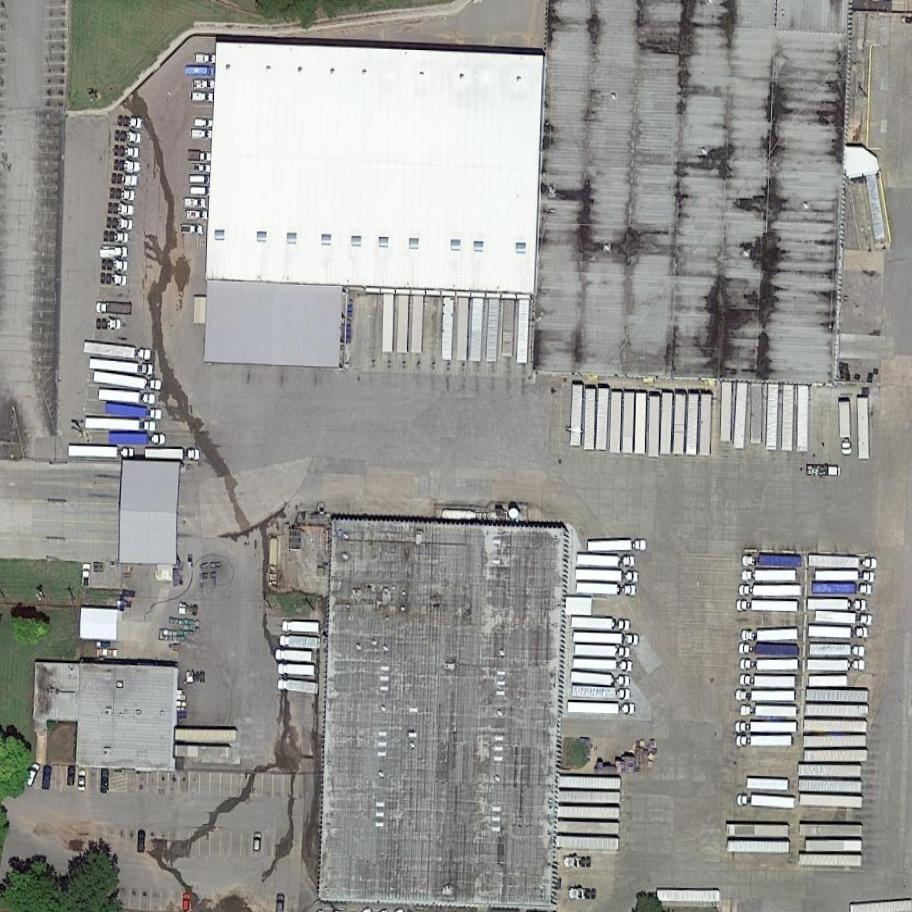large-vehicle: (84, 341, 151, 361), (93, 372, 162, 390), (85, 417, 157, 433), (104, 402, 163, 421), (89, 360, 154, 376), (99, 389, 157, 406), (809, 555, 879, 569), (572, 671, 630, 687), (574, 632, 639, 646), (572, 686, 632, 701), (568, 702, 636, 715), (816, 610, 874, 625), (69, 446, 135, 459), (588, 539, 647, 553), (576, 569, 639, 582), (839, 401, 854, 454), (736, 721, 797, 734), (742, 628, 798, 642), (577, 583, 637, 596), (810, 625, 869, 638), (737, 796, 795, 809), (739, 585, 801, 597), (573, 659, 634, 671), (813, 583, 873, 595), (741, 570, 796, 583), (807, 659, 866, 671), (572, 617, 630, 629), (737, 690, 795, 702), (109, 433, 167, 445), (578, 554, 635, 566), (736, 601, 798, 612), (145, 448, 201, 460), (278, 679, 320, 695), (575, 645, 630, 657), (737, 735, 792, 747), (740, 675, 795, 687), (816, 572, 876, 583), (808, 599, 868, 610), (743, 555, 802, 566), (741, 659, 798, 670), (741, 705, 797, 716), (811, 644, 865, 655), (740, 645, 799, 655), (279, 636, 321, 649), (96, 300, 132, 315), (275, 648, 311, 662), (282, 622, 320, 634), (278, 664, 315, 675), (807, 464, 839, 476), (186, 65, 215, 76)
small-vehicle: (22, 762, 42, 788), (106, 202, 135, 218), (113, 158, 141, 174), (116, 115, 144, 131), (114, 130, 143, 145), (104, 217, 135, 230), (109, 188, 137, 202), (100, 273, 128, 287), (114, 146, 141, 160), (101, 260, 128, 273), (111, 174, 138, 187), (40, 766, 54, 791), (187, 149, 212, 163), (100, 247, 128, 259), (180, 223, 203, 237), (96, 318, 122, 330), (191, 78, 215, 91), (190, 90, 214, 103), (189, 184, 210, 198), (188, 128, 212, 140), (99, 770, 110, 796), (182, 198, 208, 209), (103, 232, 128, 243), (136, 830, 147, 853), (82, 563, 92, 588), (251, 832, 263, 852), (190, 173, 210, 185), (194, 117, 214, 128), (186, 210, 208, 220), (66, 766, 76, 787), (77, 771, 87, 792), (192, 163, 211, 173)
